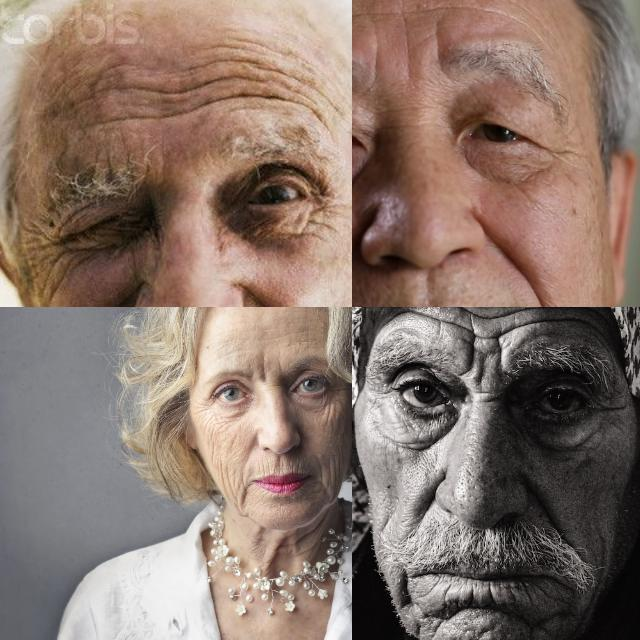chin: (447, 588, 519, 622), (527, 611, 551, 640)
crows_feet: (303, 187, 343, 241), (32, 227, 72, 273), (596, 394, 630, 424), (328, 384, 344, 412), (195, 396, 215, 414)
forehead: (235, 53, 283, 109), (164, 76, 222, 118), (80, 72, 146, 106), (294, 84, 330, 130), (460, 307, 511, 339), (358, 0, 417, 25), (516, 307, 576, 331), (433, 0, 486, 20), (398, 307, 449, 323), (220, 338, 242, 359)
frown_line: (428, 28, 454, 74), (364, 46, 390, 85), (458, 340, 480, 378), (489, 339, 508, 378), (401, 39, 419, 79), (258, 362, 272, 384)
gummy_smile: (484, 232, 550, 302), (528, 480, 560, 528), (245, 285, 297, 307), (93, 288, 134, 307), (418, 481, 439, 517)
masseter: (215, 465, 242, 501), (325, 458, 343, 497), (326, 418, 344, 444), (206, 423, 220, 455)
sad_smile: (397, 574, 418, 608)
smoker_lines: (259, 460, 307, 472)
